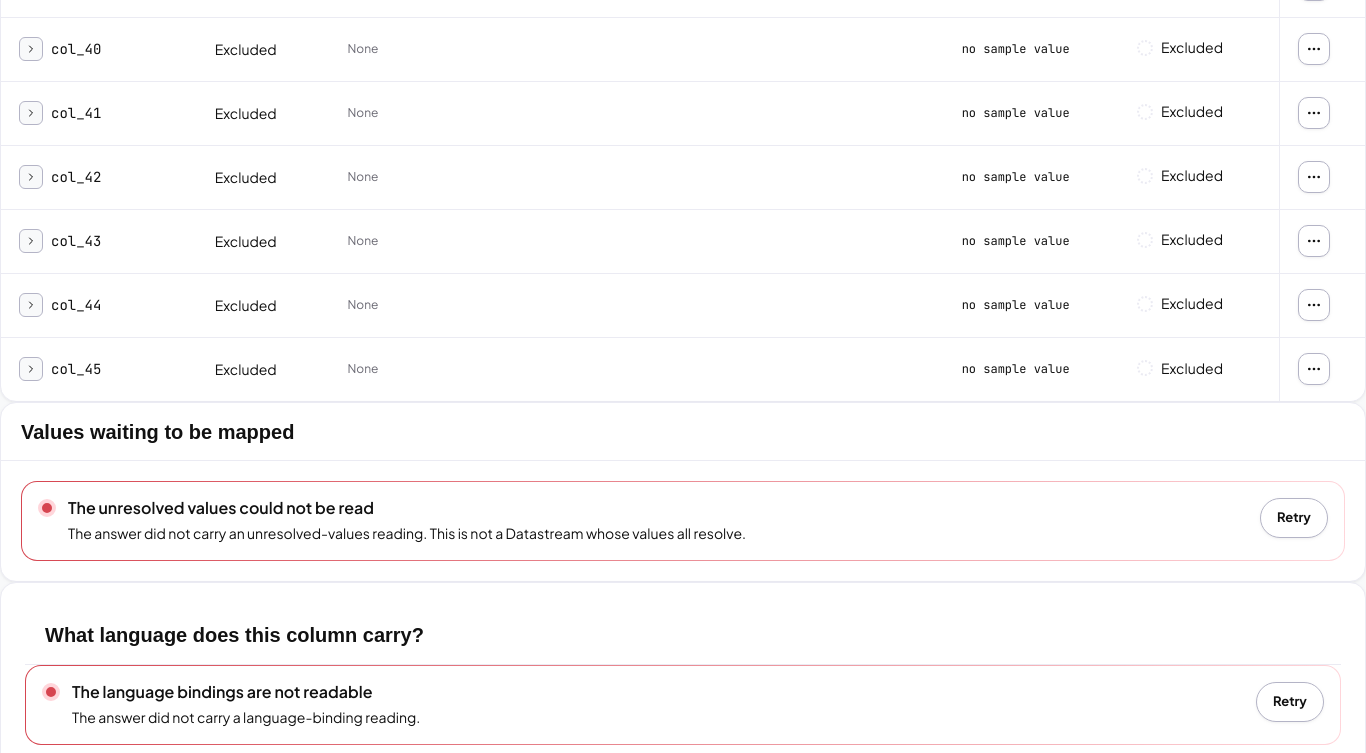
Mapping tab — excluding and re-including › re-including an excluded column returns it to review, not to a confirmation nobody gave
(page scrolled)
Click the button with test id "acts-col_45" at {"x": 1314, "y": 369}, box [1298,353,1330,385]
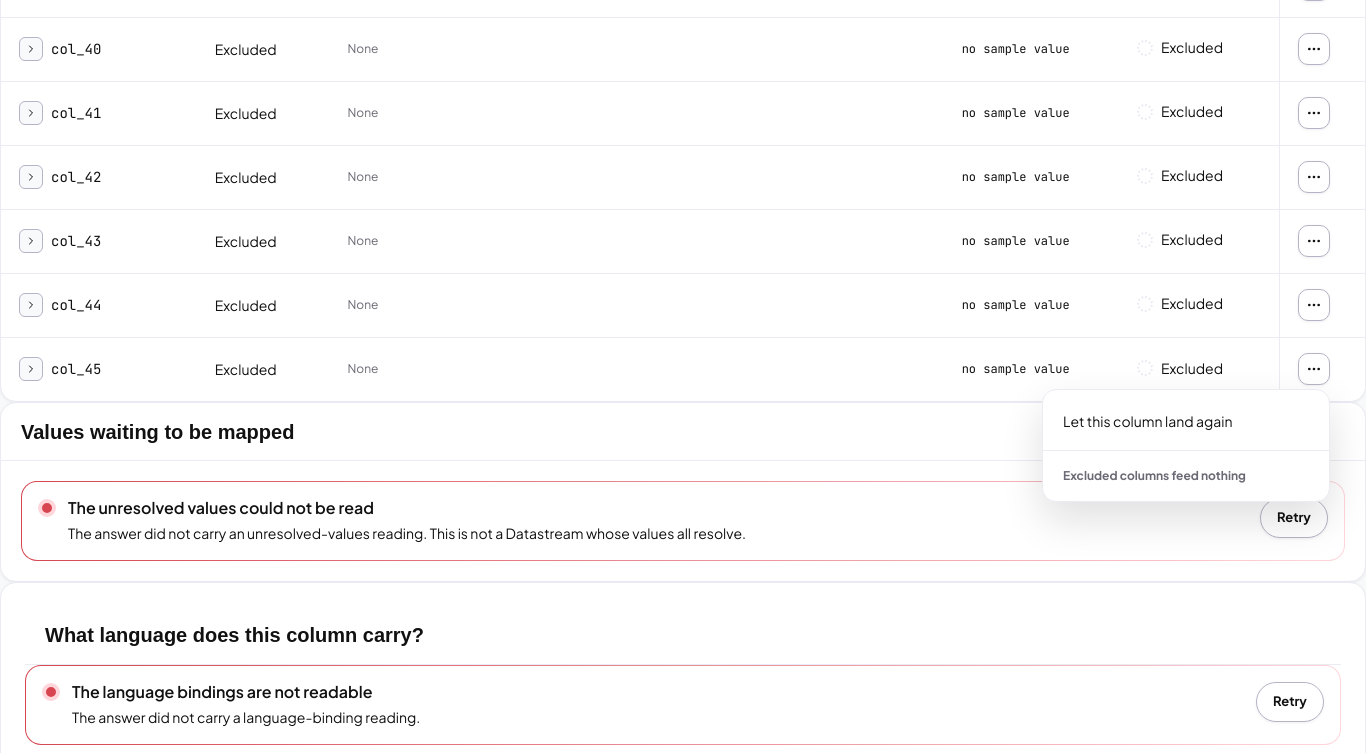
Click the menu item with test id "toggle-exclusion-col_45" at {"x": 1148, "y": 420}, box [1063,412,1232,430]
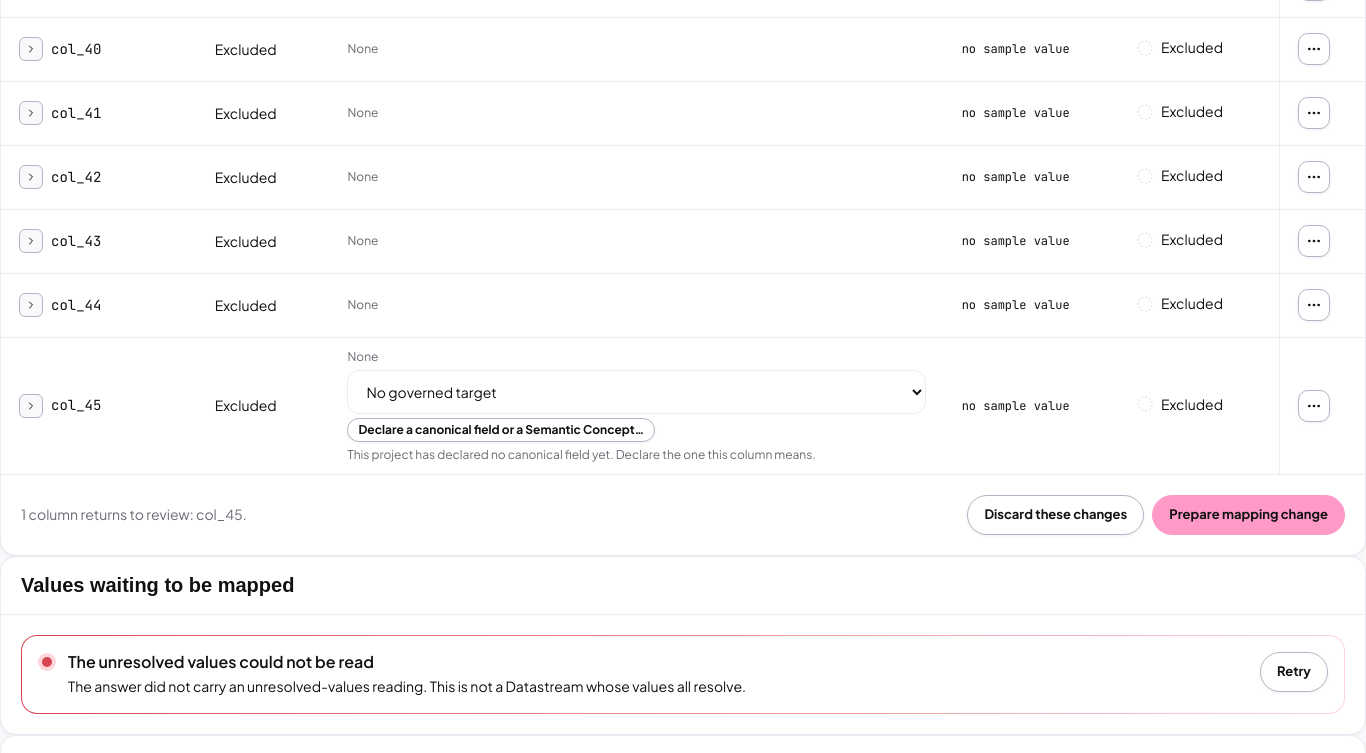
expect the element with test id "exclusion-review" shows "1 column returns to review: col_45.": met, box [21,505,247,523]
